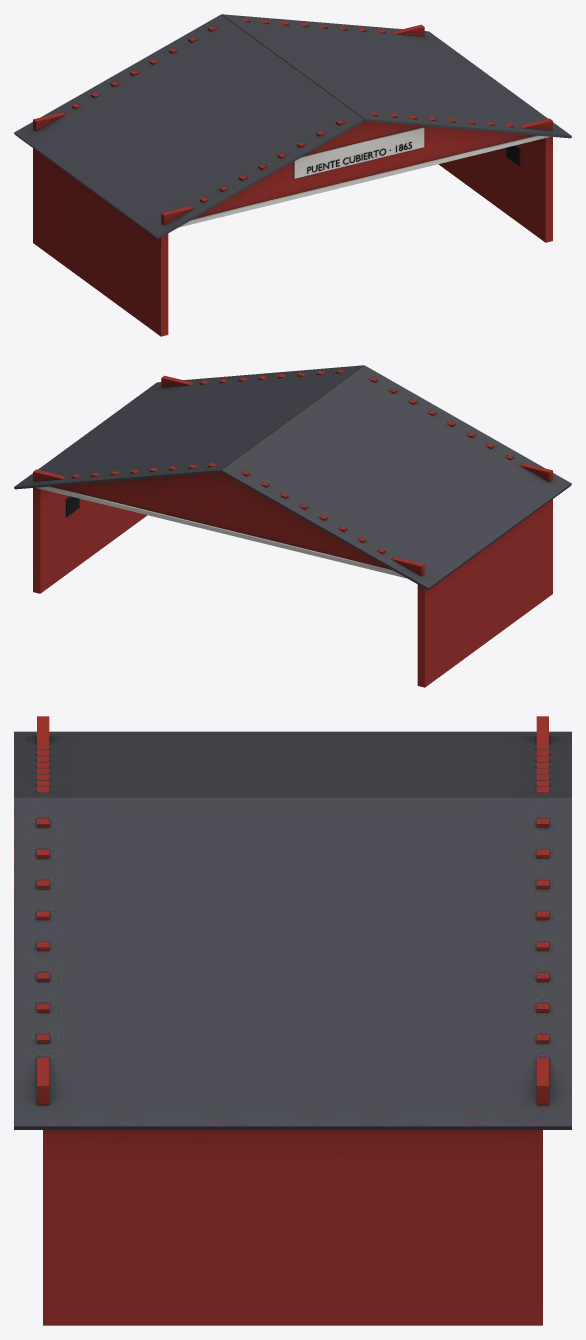
File: puente_cubierto.glb
3 renders of one model, top to bottom at view 1: azimuth 30°, elevation 25°; view 2: azimuth 150°, elevation 25°; view 3: azimuth 270°, elevation 25°, orthographic. The views are drawn at different scales.
Visible parts, largest first — view 1: puente_cubierto; view 2: puente_cubierto; view 3: puente_cubierto.
Part boxes in pixels (bbox=[...]): puente_cubierto: bbox=[14, 14, 571, 336]; puente_cubierto: bbox=[14, 365, 571, 687]; puente_cubierto: bbox=[14, 716, 571, 1325].
Bounding box in the file's own units: 22.44 × 9.06 × 13.4.
Materials: 1 (1 with a texture image).
